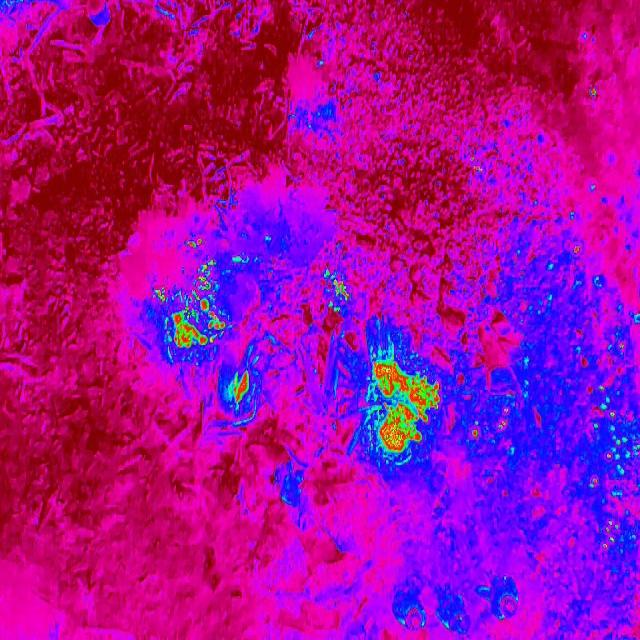fire: (572, 337, 640, 549), (364, 347, 442, 469), (155, 261, 229, 359), (320, 257, 354, 323), (459, 402, 515, 442), (224, 370, 257, 416), (568, 240, 586, 260), (184, 238, 205, 252)
